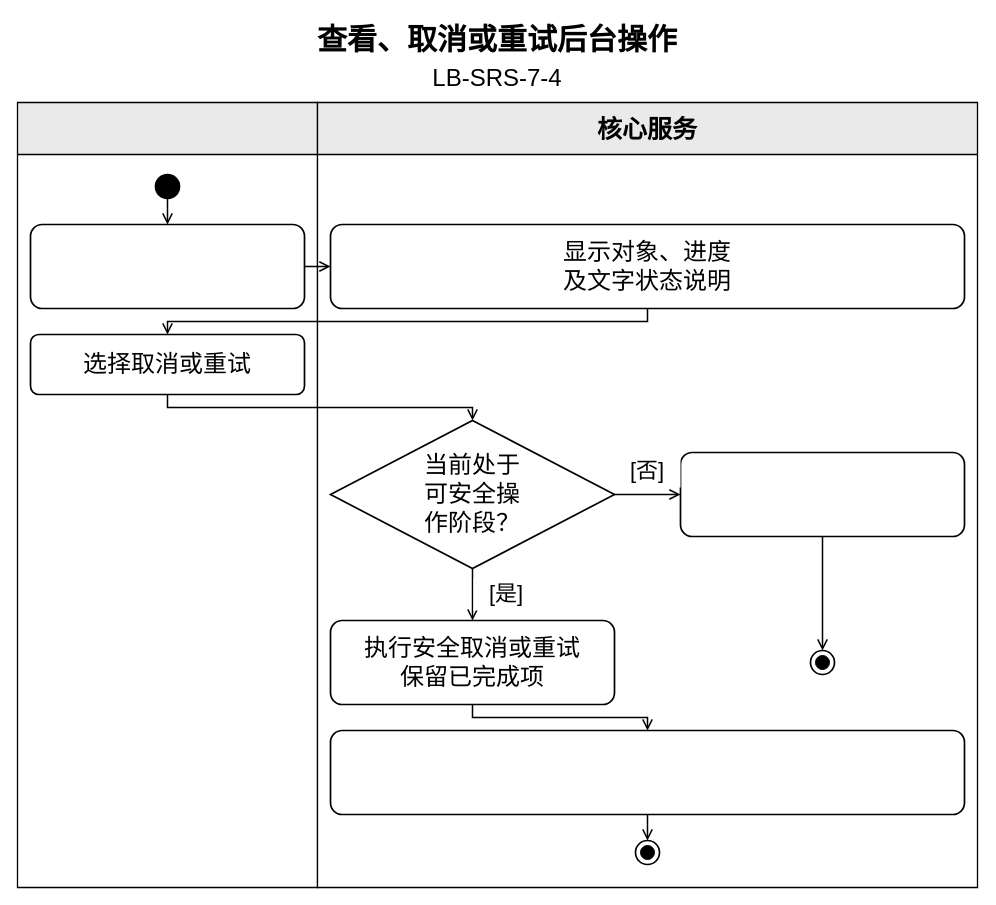
This 996x905 diagram has some shape labels left out. The shapes that lost their labels are listed below. From the top down, each one's box as (x1, y1, x2, y2) in pixels, then its label:
(29, 223, 305, 309): 查看刷新、导入、下载 导出或备份进度
(16, 101, 318, 888): 个人用户
(679, 451, 965, 537): 说明原子提交中 暂不能立即取消
(329, 729, 965, 815): 显示成功、失败 及未处理范围
